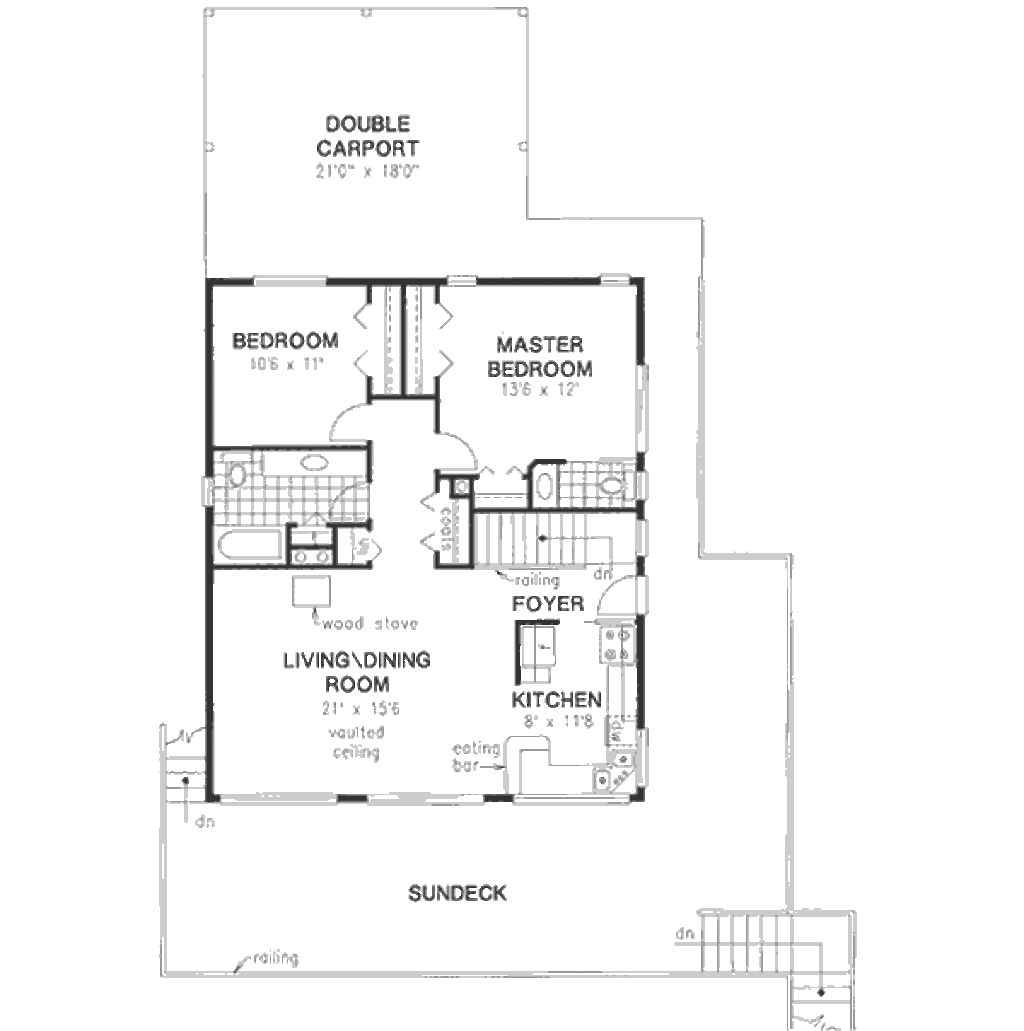door: (589, 568, 651, 622), (324, 388, 375, 446), (424, 427, 486, 474)
large_sink: (210, 447, 257, 495), (598, 468, 646, 508)
small_sink: (265, 447, 367, 485), (527, 468, 560, 511)
stairs: (679, 898, 868, 1028), (472, 501, 649, 569), (157, 731, 210, 857)
tub: (197, 522, 292, 569)
window: (627, 357, 651, 457), (249, 268, 330, 290), (443, 273, 479, 298), (591, 269, 632, 287)
